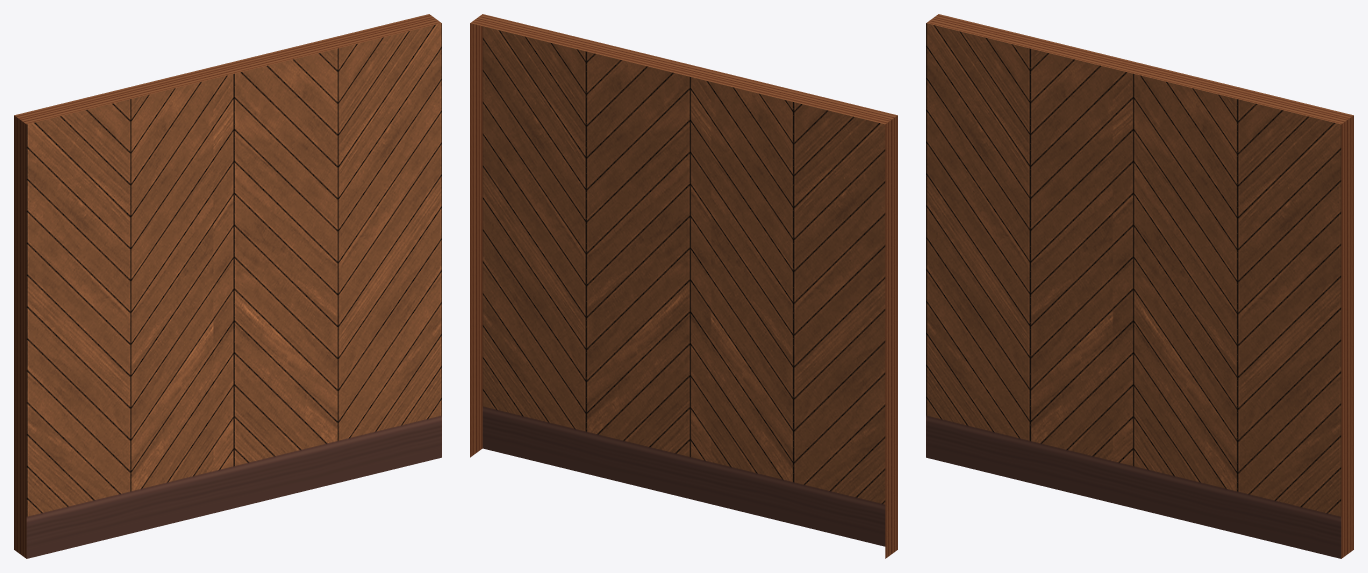
The model's file is corridor_wall_tile.FBX.
The picture shows the model from 3 angles, left to right: view 1: azimuth 30°, elevation 25°; view 2: azimuth 150°, elevation 25°; view 3: azimuth 330°, elevation 25°; orthographic projection.
Visible parts, largest first — view 1: Box003; view 2: Box003; view 3: Box003.
Part boxes in pixels (bbox=[...]): Box003: bbox=[14, 14, 441, 558]; Box003: bbox=[470, 14, 897, 558]; Box003: bbox=[926, 14, 1353, 558].
Size of the model in its own units: 1912 by 1913 by 100.
1 material, 1 textured.
